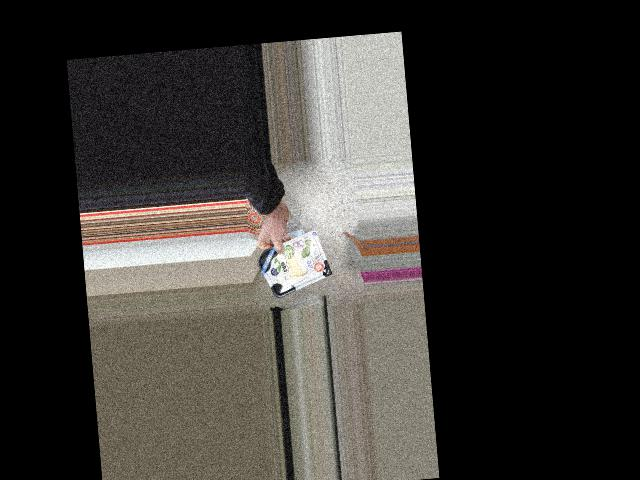cheese: (261, 240, 328, 292)
